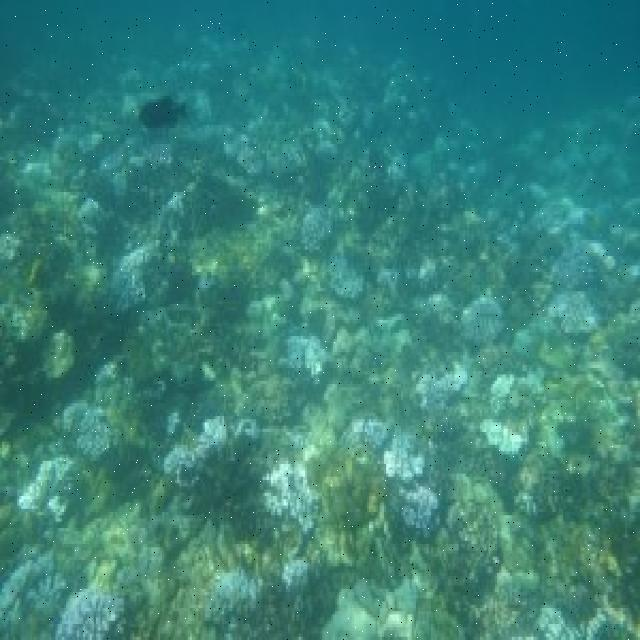Bleached: (163, 405, 260, 498), (1, 545, 71, 638), (62, 358, 119, 465), (261, 457, 325, 541), (416, 362, 481, 437), (273, 324, 337, 399), (16, 454, 79, 527), (61, 577, 128, 640), (458, 284, 511, 360), (208, 566, 264, 631), (380, 421, 431, 484), (489, 369, 547, 422), (398, 487, 446, 546), (109, 247, 151, 310), (326, 253, 370, 305), (479, 416, 529, 461), (297, 204, 338, 256), (347, 414, 388, 461), (286, 554, 316, 613)
Healthy: (536, 427, 640, 618), (133, 508, 210, 640), (328, 464, 397, 586), (439, 493, 503, 602), (192, 187, 270, 273), (26, 197, 81, 317), (539, 479, 592, 601), (125, 305, 204, 384), (444, 230, 547, 285), (217, 251, 255, 378), (368, 186, 433, 260), (419, 603, 494, 640)
